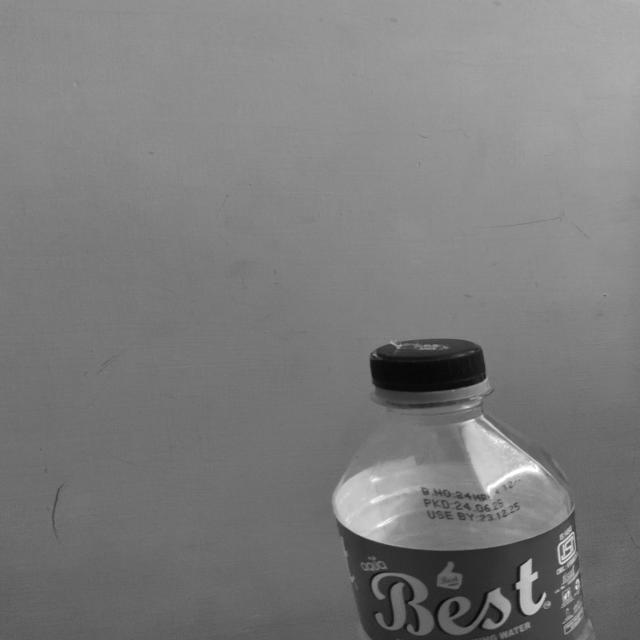Good-cap-Df0S: (366, 336, 496, 404)
